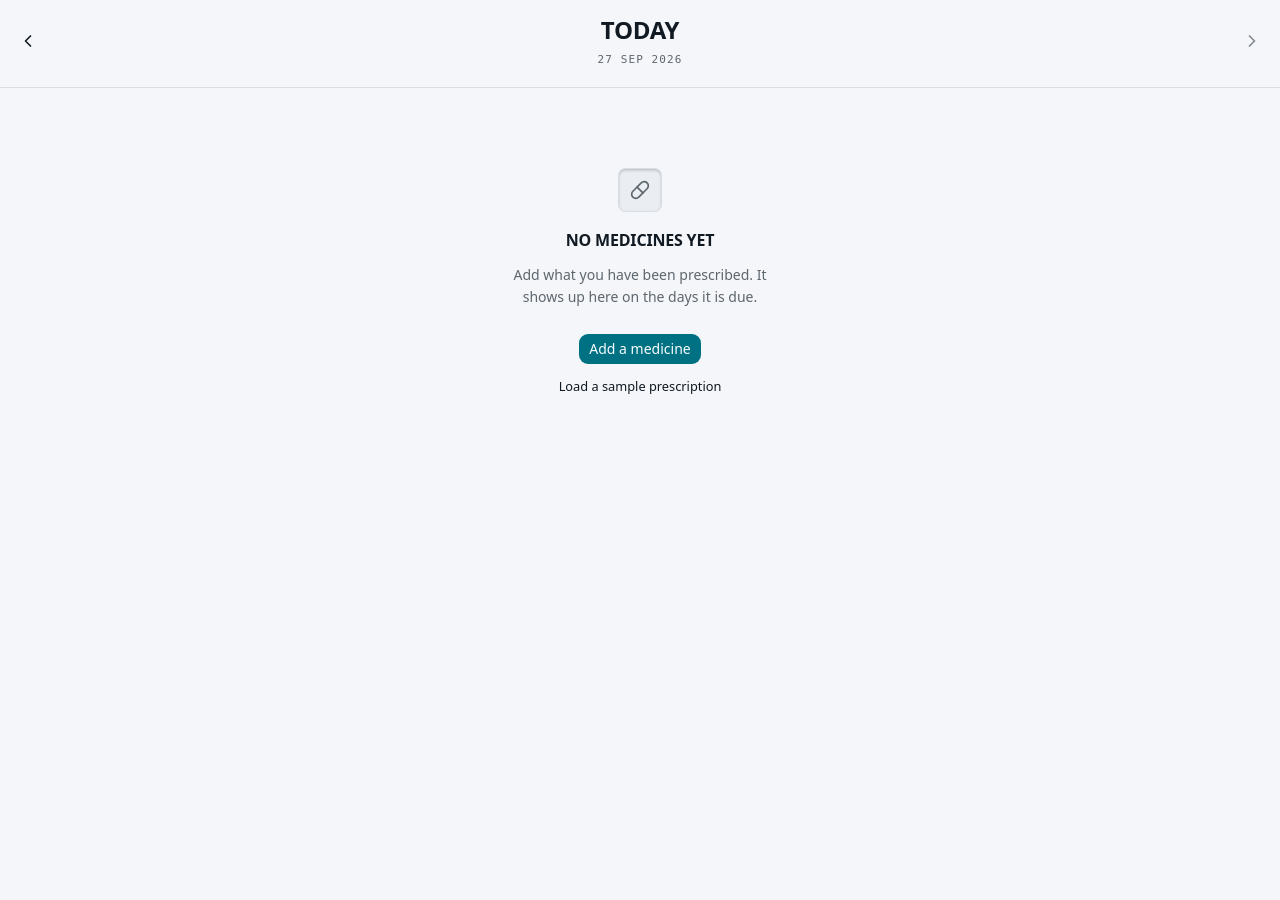
Test: the Today screen › offers the example prescriptions when nothing is added
The width and height of the screenshot is (1280, 900).
expect the heading "No medicines yet" is shown: met, box 566,228 -> 714,252
Click the button "Load a sample prescription".
click(640, 387)  # box 548,373 -> 732,401
(page scrolled)
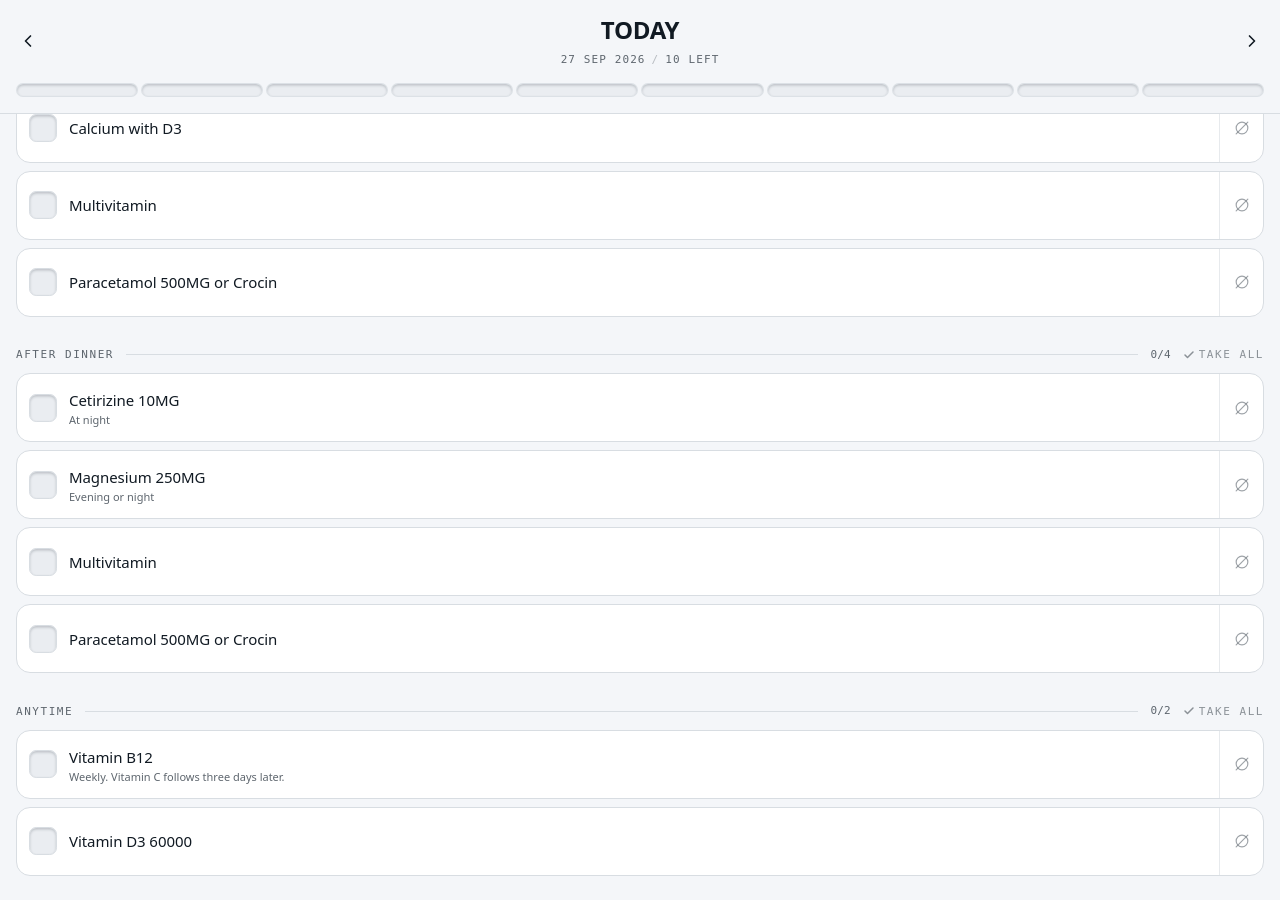
expect the text "After dinner" is shown: met, box 16,349 -> 114,360
expect the text "Anytime" is shown: met, box 16,706 -> 73,717
